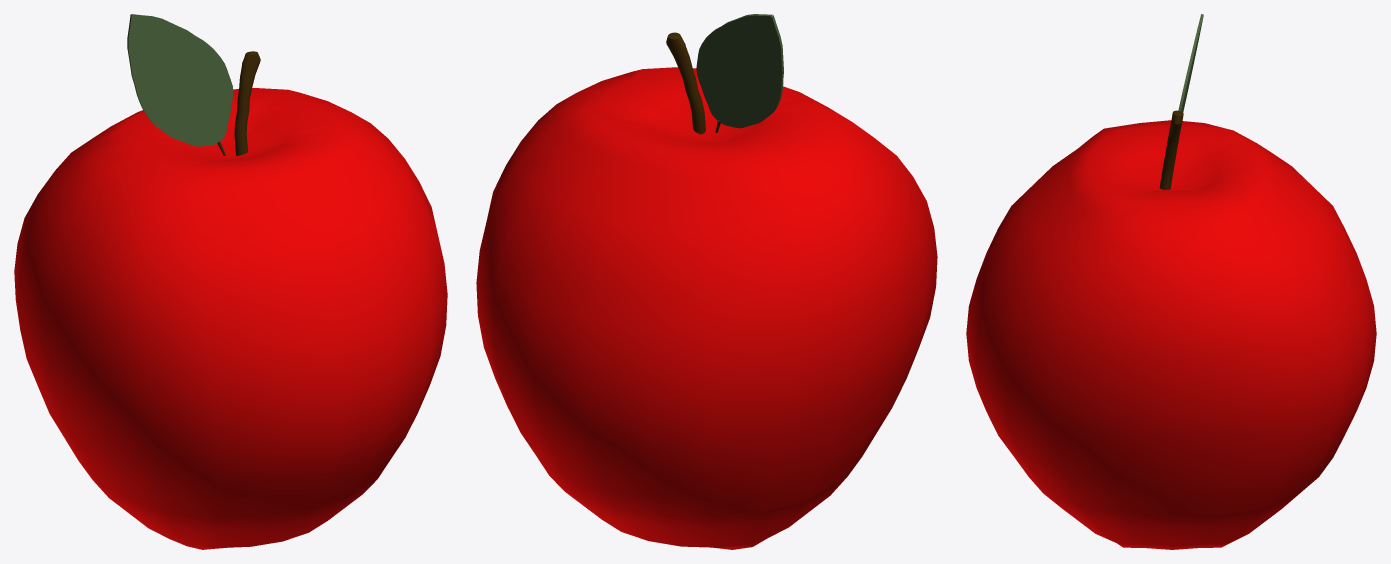
File: Apple.fbx
3 renders of one model, left to right at view 1: azimuth 30°, elevation 25°; view 2: azimuth 150°, elevation 25°; view 3: azimuth 270°, elevation 25°, orthographic. The views are drawn at different scales.
Parts seen in each view (by area): view 1: pSphere2; view 2: pSphere2; view 3: pSphere2.
Part boxes in pixels (x1,y1,x2,y2): pSphere2: (14,14,447,549); pSphere2: (476,14,937,549); pSphere2: (966,14,1376,549).
Size of the model in its own units: 26.25 by 35.2 by 27.31.
